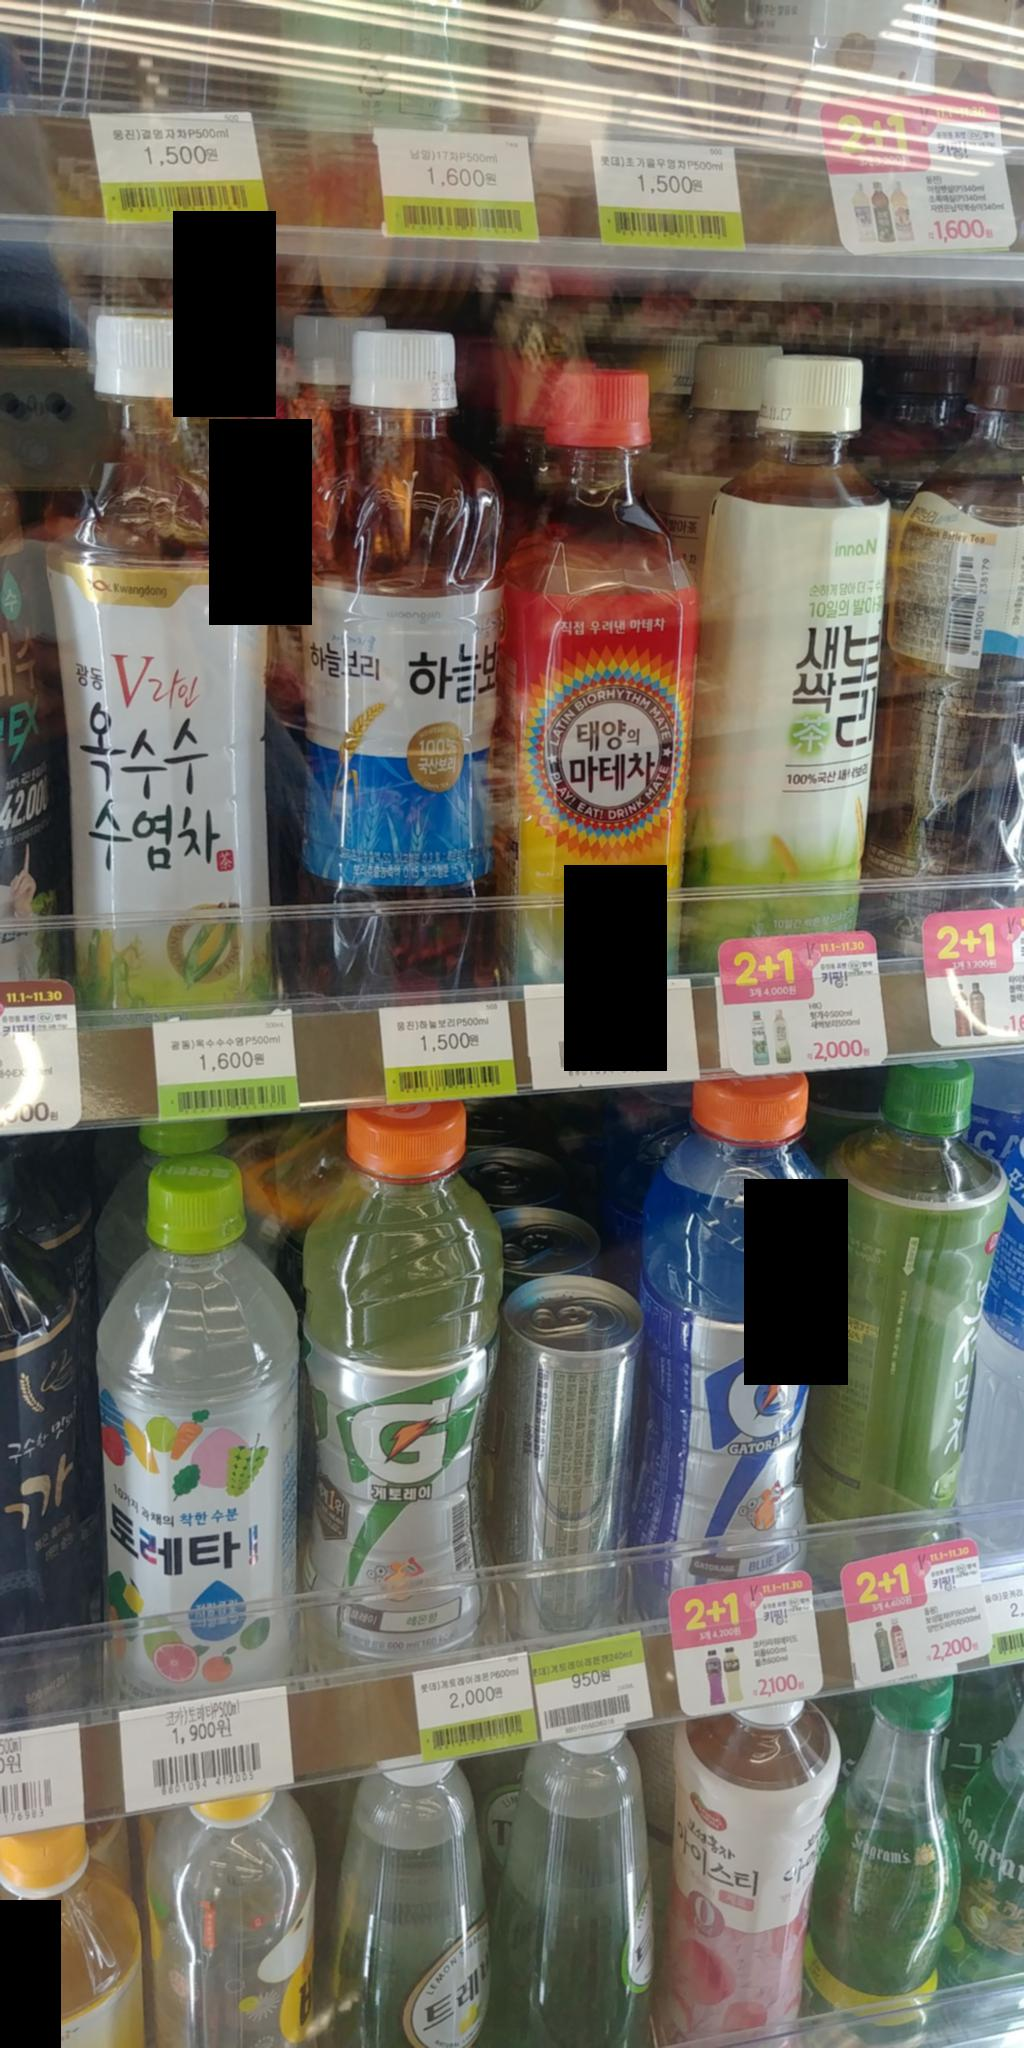gatorade_lemon: (281, 1092, 509, 1688)
haneulbori: (283, 303, 516, 999)
oksususuyeomcha: (44, 298, 285, 1008)
toreta: (80, 1135, 312, 1706)
